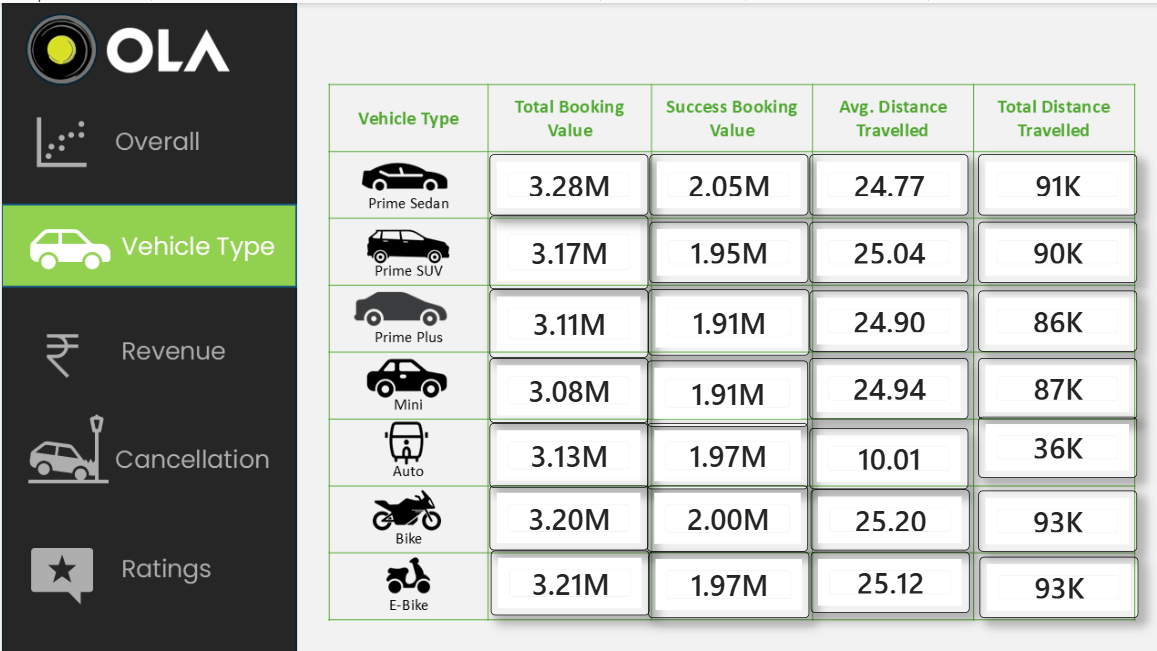

What the dashboard file says about the page in this screenshot:
{"tool":"powerbi","page":{"name":"Vehicle Type","canvas":[1280,720],"ordinal":1},"visuals":[{"type":"actionButton","box":[0,200.3,325.7,114.6],"z":0},{"type":"actionButton","box":[0,108.6,325.7,114.6],"z":1000},{"type":"actionButton","box":[0,314.9,325.7,114.6],"z":2000},{"type":"actionButton","box":[0,429.5,325.7,114.6],"z":3000},{"type":"actionButton","box":[0,544.1,325.7,114.6],"z":4000},{"type":"cardVisual","title":"Total Bookings","fields":{"Data":["July.Booking_Value_Display"]},"box":[535.2,233.3,174.3,81],"z":5000},{"type":"cardVisual","title":"Total Bookings","fields":{"Data":["July.Booking_Value_Display"]},"box":[535.2,314.2,174.3,75.5],"z":6000},{"type":"cardVisual","title":"Total Bookings","fields":{"Data":["July.Booking_Value_Display"]},"box":[535.2,389.7,174.3,71.4],"z":7000},{"type":"cardVisual","title":"Total Bookings","fields":{"Data":["July.Booking_Value_Display"]},"box":[535.2,461.1,174.3,71.4],"z":8000},{"type":"cardVisual","title":"Total Bookings","fields":{"Data":["July.Booking_Value_Display"]},"box":[535.2,529.7,174.3,71.4],"z":9000},{"type":"cardVisual","title":"Total Bookings","fields":{"Data":["July.Booking_Value_Display"]},"box":[536.5,601,174.3,71.4],"z":10000},{"type":"cardVisual","title":"Total Bookings","fields":{"Data":["July.Booking_Value_Display"]},"box":[535.2,166,174.3,67.2],"z":11000},{"type":"cardVisual","title":"Total Bookings","fields":{"Data":["July.Booking_Value_Display"]},"box":[710.8,166,174.3,67.2],"z":12000},{"type":"cardVisual","title":"Total Bookings","fields":{"Data":["July.Booking_Value_Display"]},"box":[710.8,240.1,174.3,67.2],"z":13000},{"type":"cardVisual","title":"Total Bookings","fields":{"Data":["July.Booking_Value_Display"]},"box":[709.4,314.2,177,72.7],"z":14000},{"type":"cardVisual","title":"Total Bookings","fields":{"Data":["July.Booking_Value_Display"]},"box":[708.1,392.5,177,72.7],"z":15000},{"type":"cardVisual","title":"Total Bookings","fields":{"Data":["July.Booking_Value_Display"]},"box":[708.1,461.1,177,72.7],"z":16000},{"type":"cardVisual","title":"Total Bookings","fields":{"Data":["July.Booking_Value_Display"]},"box":[708.1,529.7,177,72.7],"z":17000},{"type":"cardVisual","title":"Total Bookings","fields":{"Data":["July.Booking_Value_Display"]},"box":[709.4,602.4,177,72.7],"z":18000},{"type":"cardVisual","title":"Total Bookings","fields":{"Data":["Avg(July.Ride_Distance)"]},"box":[886.5,166,174.3,67.2],"z":19000},{"type":"cardVisual","title":"Total Bookings","fields":{"Data":["Avg(July.Ride_Distance)"]},"box":[886.5,240.1,174.3,67.2],"z":20000},{"type":"cardVisual","title":"Total Bookings","fields":{"Data":["Avg(July.Ride_Distance)"]},"box":[886.5,315.6,174.3,67.2],"z":21000},{"type":"cardVisual","title":"Total Bookings","fields":{"Data":["Avg(July.Ride_Distance)"]},"box":[886.5,466.6,174.3,67.2],"z":22000},{"type":"cardVisual","title":"Total Bookings","fields":{"Data":["Avg(July.Ride_Distance)"]},"box":[886.5,389.7,174.3,67.2],"z":23000},{"type":"cardVisual","title":"Total Bookings","fields":{"Data":["Avg(July.Ride_Distance)"]},"box":[887.8,533.8,174.3,67.2],"z":24000},{"type":"cardVisual","title":"Total Bookings","fields":{"Data":["Avg(July.Ride_Distance)"]},"box":[887.8,602.4,174.3,67.2],"z":25000},{"type":"cardVisual","title":"Total Bookings","fields":{"Data":["Sum(July.Ride_Distance)"]},"box":[1071.7,166,174.3,67.2],"z":26000},{"type":"cardVisual","title":"Total Bookings","fields":{"Data":["Sum(July.Ride_Distance)"]},"box":[1071.7,240.1,174.3,67.2],"z":27000},{"type":"cardVisual","title":"Total Bookings","fields":{"Data":["Sum(July.Ride_Distance)"]},"box":[1071.7,315.6,174.3,67.2],"z":28000},{"type":"cardVisual","title":"Total Bookings","fields":{"Data":["Sum(July.Ride_Distance)"]},"box":[1071.7,389.7,174.3,67.2],"z":29000},{"type":"cardVisual","title":"Total Bookings","fields":{"Data":["Sum(July.Ride_Distance)"]},"box":[1071.7,454.2,174.3,67.2],"z":30000},{"type":"cardVisual","title":"Total Bookings","fields":{"Data":["Sum(July.Ride_Distance)"]},"box":[1071.7,535.2,174.3,67.2],"z":31000},{"type":"cardVisual","title":"Total Bookings","fields":{"Data":["Sum(July.Ride_Distance)"]},"box":[1073.1,607.9,174.3,67.2],"z":32000}]}

Visuals, with their boxes in screenshot pixels (x1, y1, x2, y2):
actionButton: rect(0, 179, 292, 285)
actionButton: rect(0, 94, 292, 200)
actionButton: rect(0, 285, 292, 391)
actionButton: rect(0, 391, 292, 497)
actionButton: rect(0, 497, 292, 603)
"Total Bookings" cardVisual: rect(486, 210, 647, 284)
"Total Bookings" cardVisual: rect(486, 284, 647, 354)
"Total Bookings" cardVisual: rect(486, 354, 647, 420)
"Total Bookings" cardVisual: rect(486, 420, 647, 486)
"Total Bookings" cardVisual: rect(486, 484, 647, 549)
"Total Bookings" cardVisual: rect(487, 549, 648, 615)
"Total Bookings" cardVisual: rect(486, 147, 647, 209)
"Total Bookings" cardVisual: rect(648, 147, 809, 209)
"Total Bookings" cardVisual: rect(648, 216, 809, 278)
"Total Bookings" cardVisual: rect(647, 284, 810, 352)
"Total Bookings" cardVisual: rect(645, 357, 809, 424)
"Total Bookings" cardVisual: rect(645, 420, 809, 487)
"Total Bookings" cardVisual: rect(645, 484, 809, 551)
"Total Bookings" cardVisual: rect(647, 551, 810, 618)
"Total Bookings" cardVisual: rect(810, 147, 971, 209)
"Total Bookings" cardVisual: rect(810, 216, 971, 278)
"Total Bookings" cardVisual: rect(810, 286, 971, 348)
"Total Bookings" cardVisual: rect(810, 425, 971, 487)
"Total Bookings" cardVisual: rect(810, 354, 971, 416)
"Total Bookings" cardVisual: rect(811, 487, 973, 549)
"Total Bookings" cardVisual: rect(811, 551, 973, 613)
"Total Bookings" cardVisual: rect(981, 147, 1142, 209)
"Total Bookings" cardVisual: rect(981, 216, 1142, 278)
"Total Bookings" cardVisual: rect(981, 286, 1142, 348)
"Total Bookings" cardVisual: rect(981, 354, 1142, 416)
"Total Bookings" cardVisual: rect(981, 414, 1142, 476)
"Total Bookings" cardVisual: rect(981, 489, 1142, 551)
"Total Bookings" cardVisual: rect(983, 556, 1144, 618)
